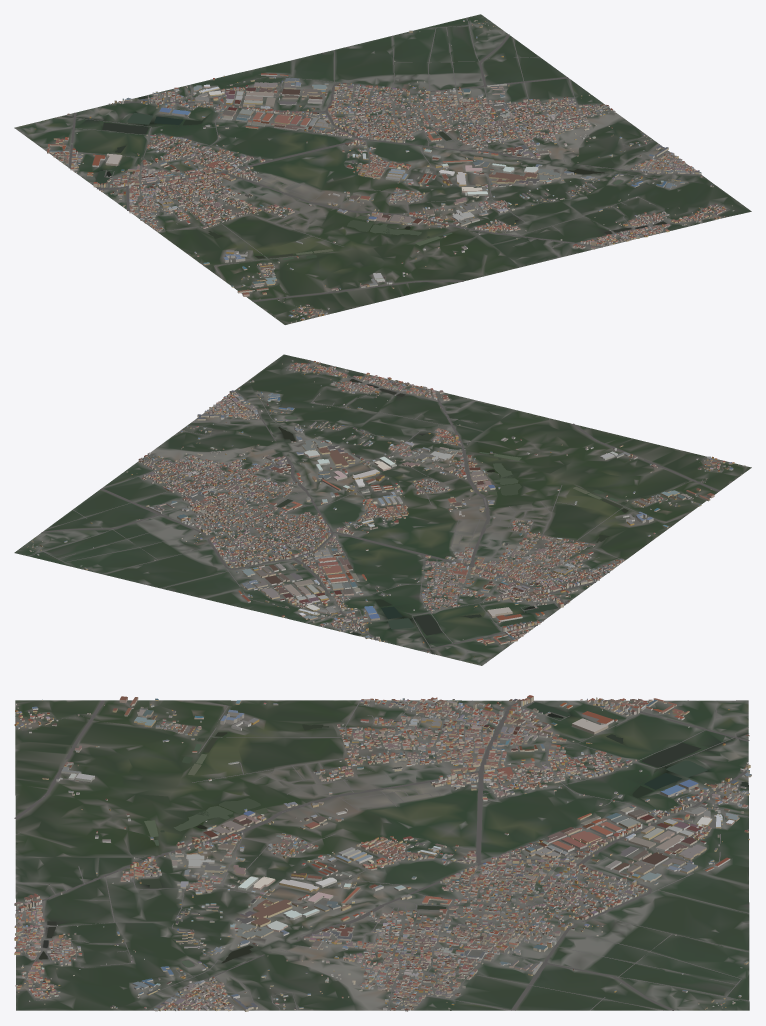
3 views of the same model, one above another, from view 1: azimuth 30°, elevation 25°; view 2: azimuth 150°, elevation 25°; view 3: azimuth 270°, elevation 25° (orthographic). The views are drawn at different scales.
Visible parts, largest first — view 1: ground, buildings, roads, water; view 2: ground, buildings, roads, water; view 3: ground, buildings, roads, water.
Part boxes in pixels (x1,y1,x2,y2): ground: [14, 14, 751, 324]; buildings: [35, 20, 734, 323]; roads: [22, 17, 729, 317]; water: [63, 96, 666, 272]; ground: [14, 354, 751, 665]; buildings: [27, 360, 745, 657]; roads: [28, 361, 722, 662]; water: [276, 379, 628, 654]; ground: [15, 700, 749, 1010]; buildings: [14, 695, 751, 1011]; roads: [14, 700, 749, 1010]; water: [16, 702, 748, 967].
Size of the model in its own units: 2822 by 35.48 by 2821.
